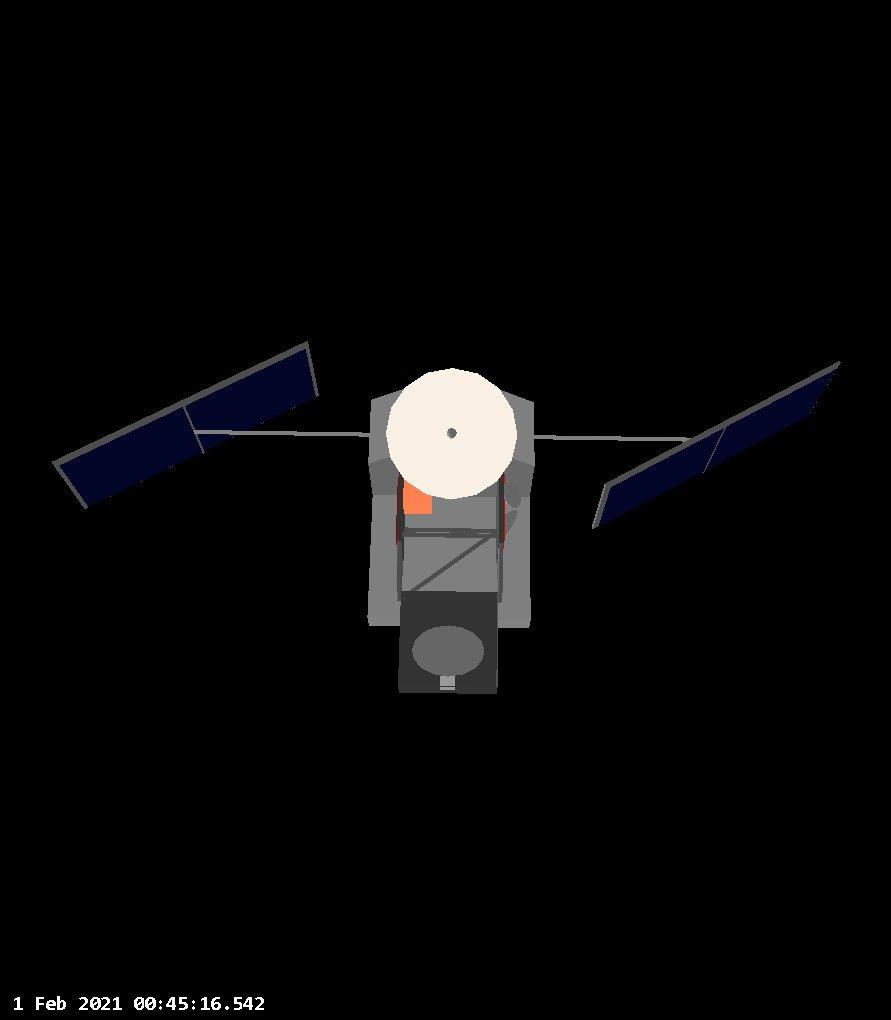antenna: (384, 362, 521, 500), (407, 622, 489, 677)
body: (362, 379, 537, 632)
solar: (47, 333, 325, 515), (586, 354, 849, 531)
